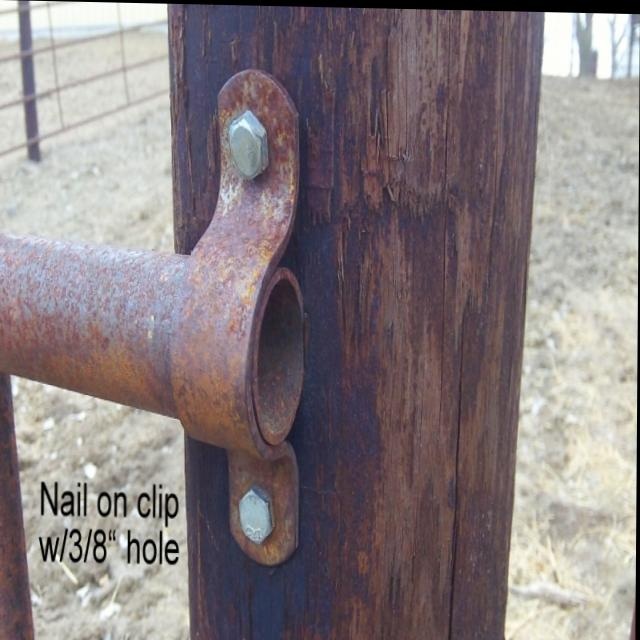Regular bolt: (230, 109, 270, 182), (241, 484, 277, 542)
